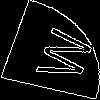W: (25, 24, 96, 84)
